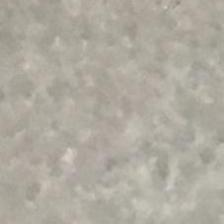Non_Crack: (20, 51, 211, 204)
